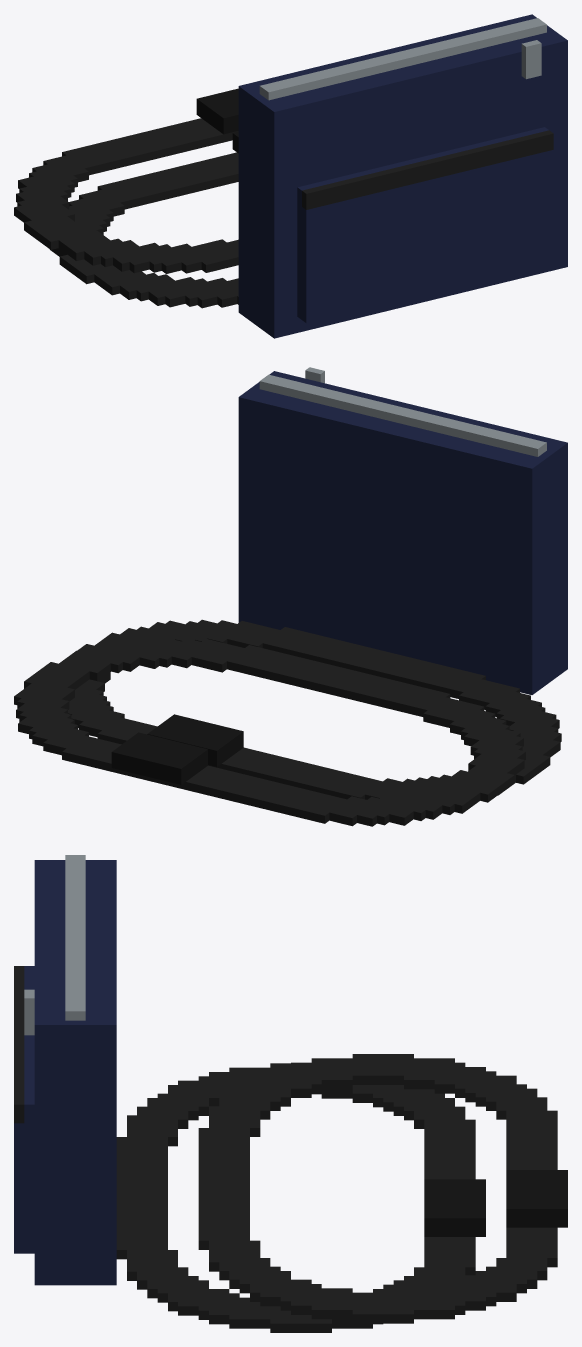
Rendered from leg_small_bag.glb.
3 views of the same model, one above another, from view 1: azimuth 30°, elevation 25°; view 2: azimuth 150°, elevation 25°; view 3: azimuth 270°, elevation 25° (orthographic). The views are drawn at different scales.
Parts seen in each view (by area): view 1: leg_small_bag:compound; view 2: leg_small_bag:compound; view 3: leg_small_bag:compound.
Part boxes in pixels (bbox=[...]): leg_small_bag:compound: bbox=[14, 14, 567, 338]; leg_small_bag:compound: bbox=[14, 367, 567, 826]; leg_small_bag:compound: bbox=[14, 855, 567, 1332].
Size of the model in its own units: 0.24 by 0.116 by 0.216.
